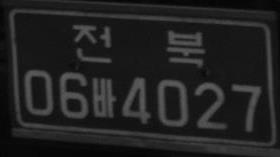0: (157, 78, 188, 127), (23, 69, 55, 116)
2: (194, 81, 227, 129)
4: (120, 77, 150, 124)
6: (59, 71, 88, 120)
7: (231, 82, 262, 132)
바: (91, 76, 116, 119)
전북_D: (72, 24, 205, 69)
